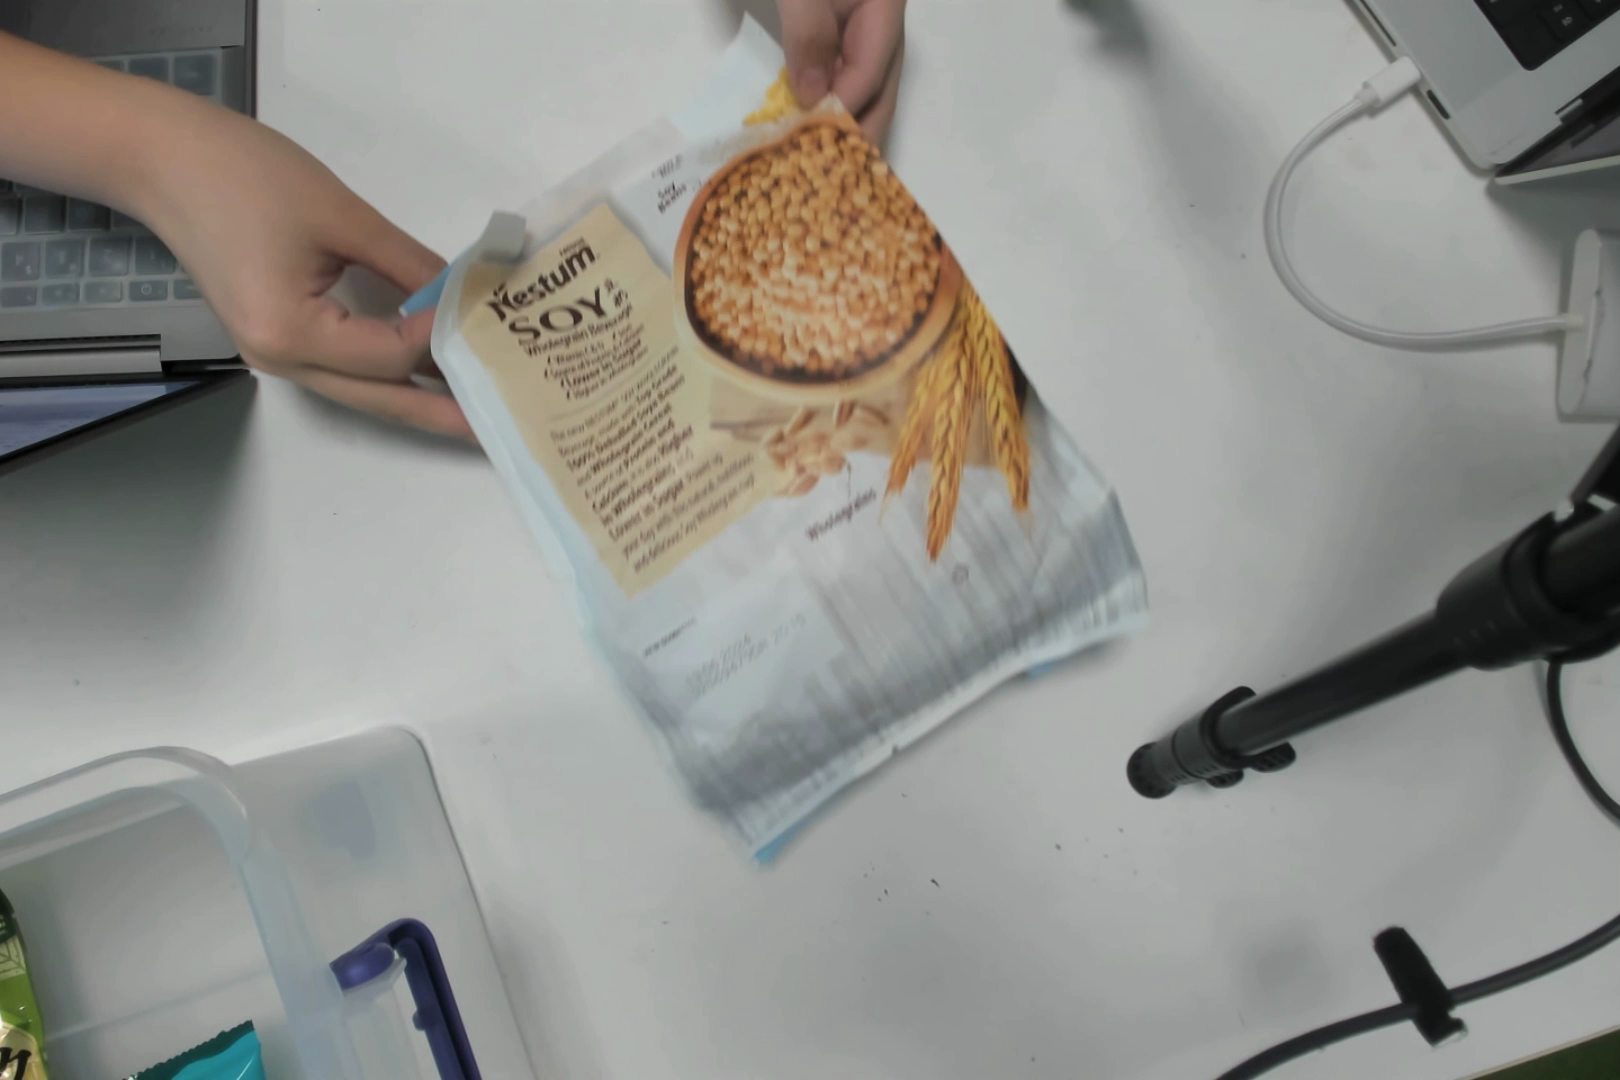e: (483, 115, 1047, 621)
